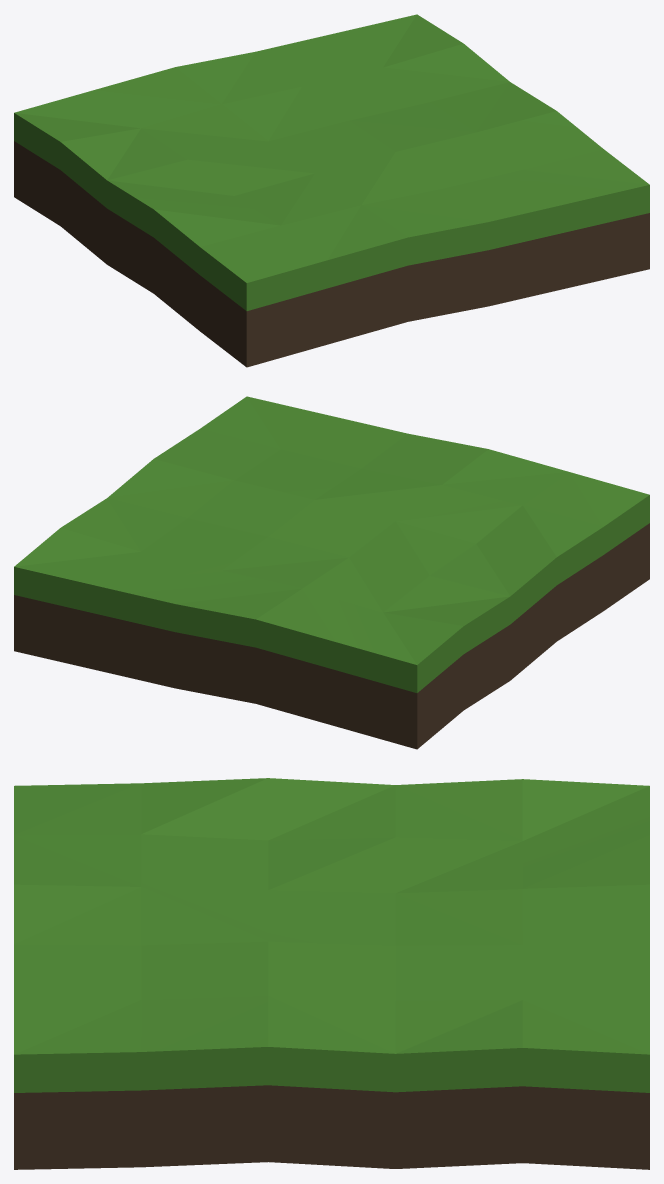
File: terrain-world-plain.glb
The picture shows the model from 3 angles, top to bottom: view 1: azimuth 30°, elevation 25°; view 2: azimuth 150°, elevation 25°; view 3: azimuth 270°, elevation 25°; orthographic projection. The views are drawn at different scales.
Parts seen in each view (by area): view 1: terrain-world-plain; view 2: terrain-world-plain; view 3: terrain-world-plain.
Boxes of the visible parts, x1=… form: terrain-world-plain: x1=14, y1=14, x2=649, y2=367; terrain-world-plain: x1=14, y1=396, x2=649, y2=749; terrain-world-plain: x1=14, y1=778, x2=649, y2=1169.
Bounding box in the file's own units: 30 × 6.45 × 30.
1 material, 1 textured.
